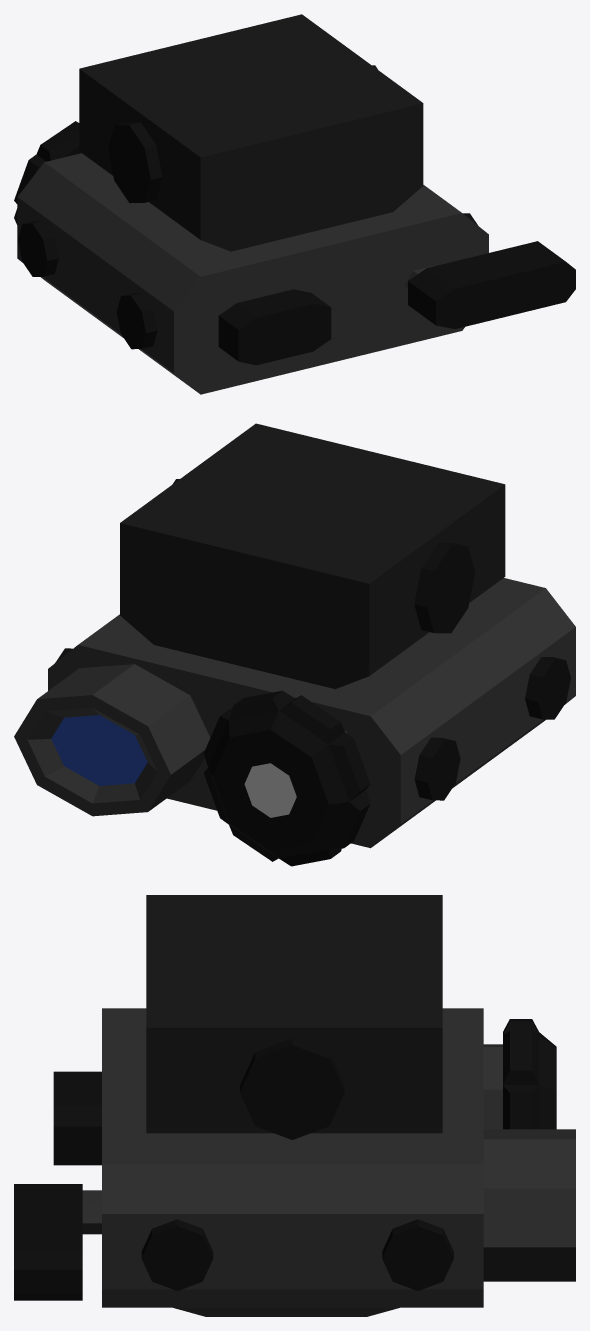
Rendered from laser.glb.
The picture shows the model from 3 angles, top to bottom: view 1: azimuth 30°, elevation 25°; view 2: azimuth 150°, elevation 25°; view 3: azimuth 270°, elevation 25°; orthographic projection. The views are drawn at different scales.
Visible parts, largest first — view 1: laser-malha; view 2: laser-malha; view 3: laser-malha.
Boxes of the visible parts, <box> form: laser-malha: <box>14,14,575,394</box>; laser-malha: <box>14,423,575,866</box>; laser-malha: <box>14,895,575,1316</box>.
Size of the model in its own units: 0.0844 by 0.0499 by 0.0891.
